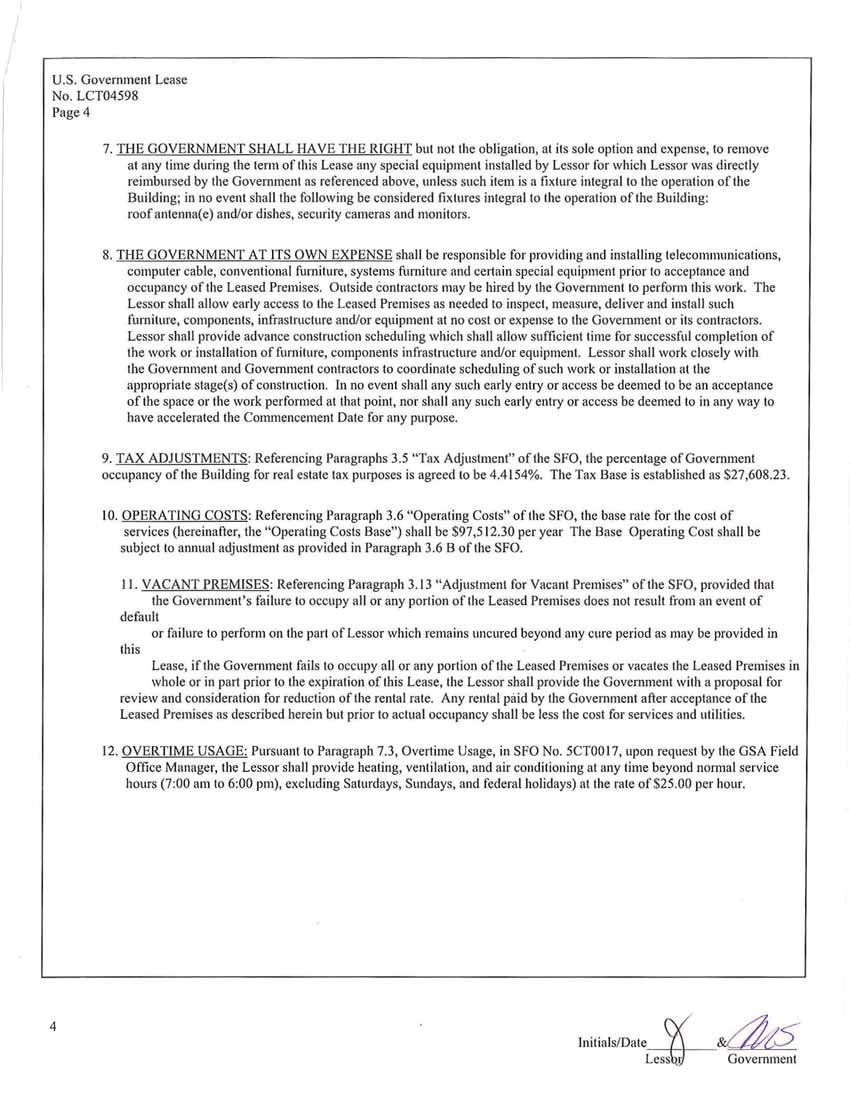handwritten: (724, 997, 809, 1054), (652, 1008, 698, 1059)
